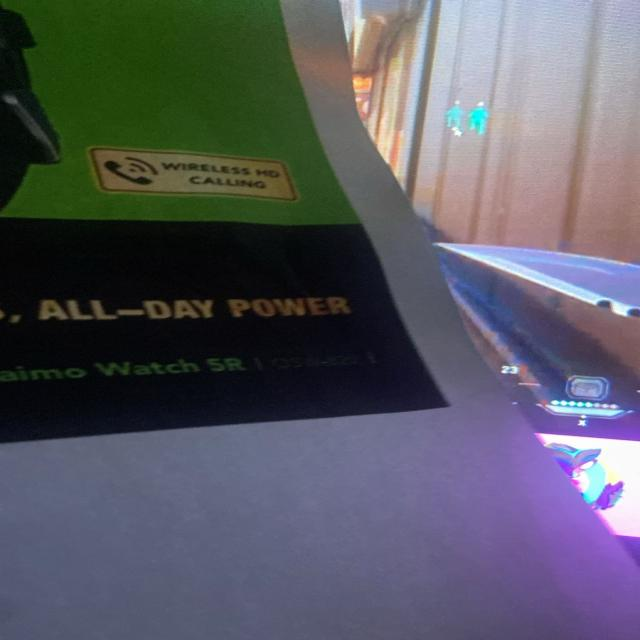Oraimo Watch 5R OSW-820: (7, 343, 415, 400)
